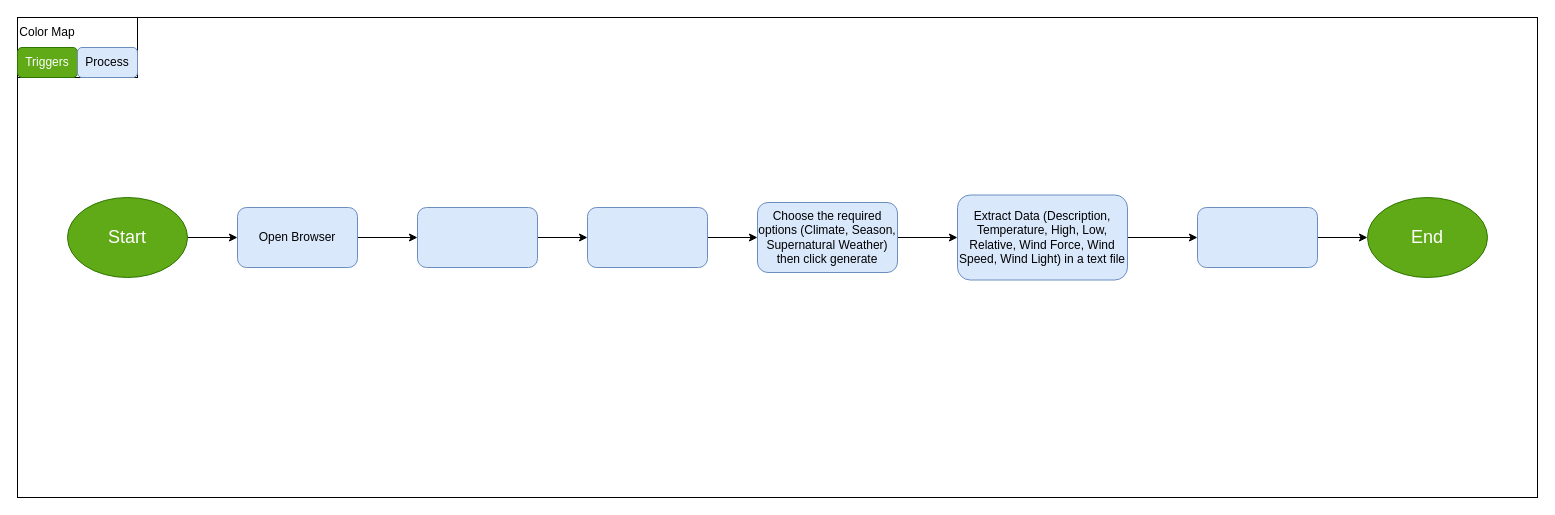
The diagram is 1555 pixels wide and 515 high, and some of its shapes have lost their labels. Each missing label, with the box of its shape:
Click the first link: (586, 206, 708, 268)
Close All Apps: (1196, 206, 1318, 268)
Enter "random weather generator" in the search box then click search: (416, 206, 538, 268)
